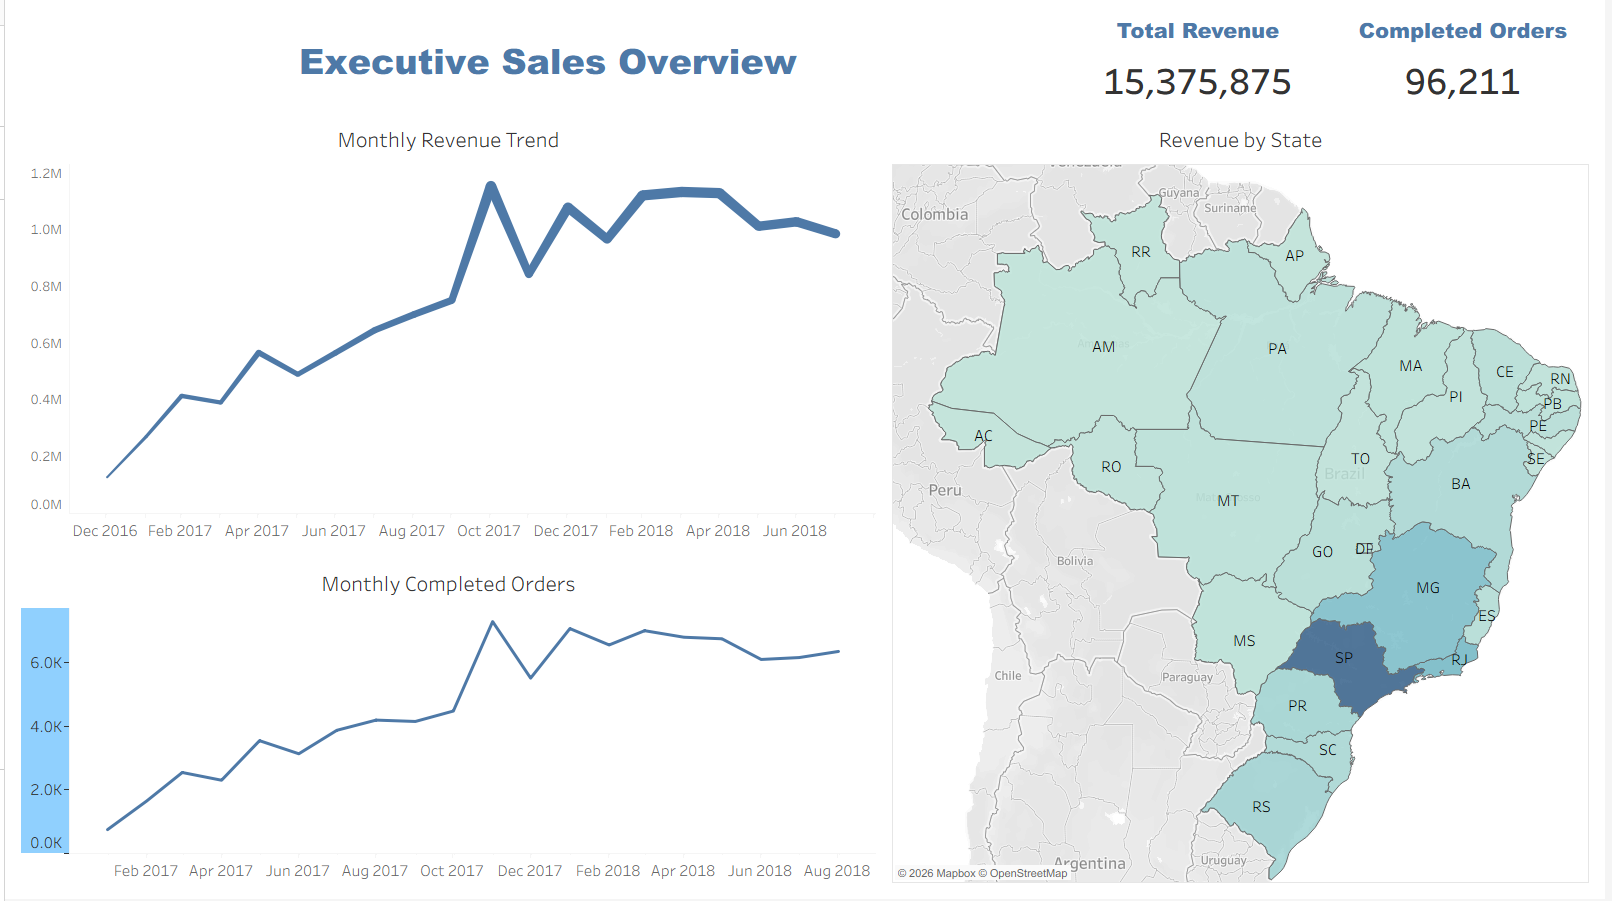

The dashboard page shown, as its layout file describes it:
{"tool":"tableau","page":{"name":"Executive Sales Overview","canvas":[1600,900],"ordinal":0},"visuals":[{"type":"text","box":[8,8,1070,106]},{"type":"worksheet","title":"Total Revenue","mark":"Text","box":[1078,8,251,106]},{"type":"worksheet","title":"Completed Orders","mark":"Automatic","box":[1329,8,263,106]},{"type":"worksheet","title":"Monthly Revenue Trend","mark":"Automatic","rows":["payment_value"],"cols":["order_purchase_timestamp"],"box":[8,114,871,444.5]},{"type":"worksheet","title":"Revenue by State","mark":"Multipolygon","box":[879,114,713,778]},{"type":"worksheet","title":"Monthly Completed Orders","mark":"Automatic","rows":["Calculation_2047860859650049"],"cols":["order_purchase_timestamp"],"box":[8,558.5,871,333.5]}]}

Visuals, with their boxes in screenshot pixels (x1, y1, x2, y2), scaled from the page's 1600x900 canvas onto the 1612x901 screenshot:
text: rect(8, 8, 1086, 114)
"Total Revenue" worksheet (Text marks): rect(1086, 8, 1339, 114)
"Completed Orders" worksheet: rect(1339, 8, 1604, 114)
"Monthly Revenue Trend" worksheet: rect(8, 114, 886, 559)
"Revenue by State" worksheet (Multipolygon marks): rect(886, 114, 1604, 893)
"Monthly Completed Orders" worksheet: rect(8, 559, 886, 893)
